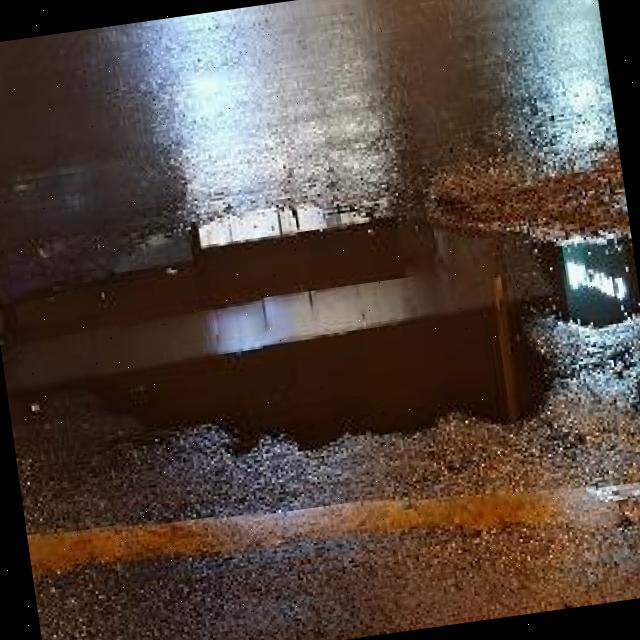waterlogging: (0, 142, 640, 500)
